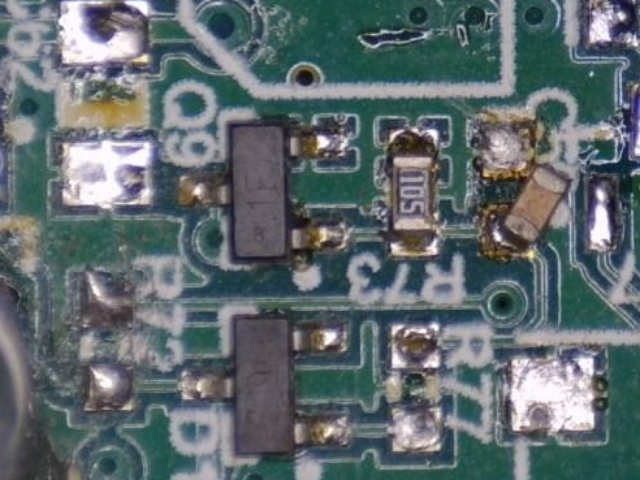pcb_defect: (178, 123, 348, 265), (479, 120, 570, 258)
